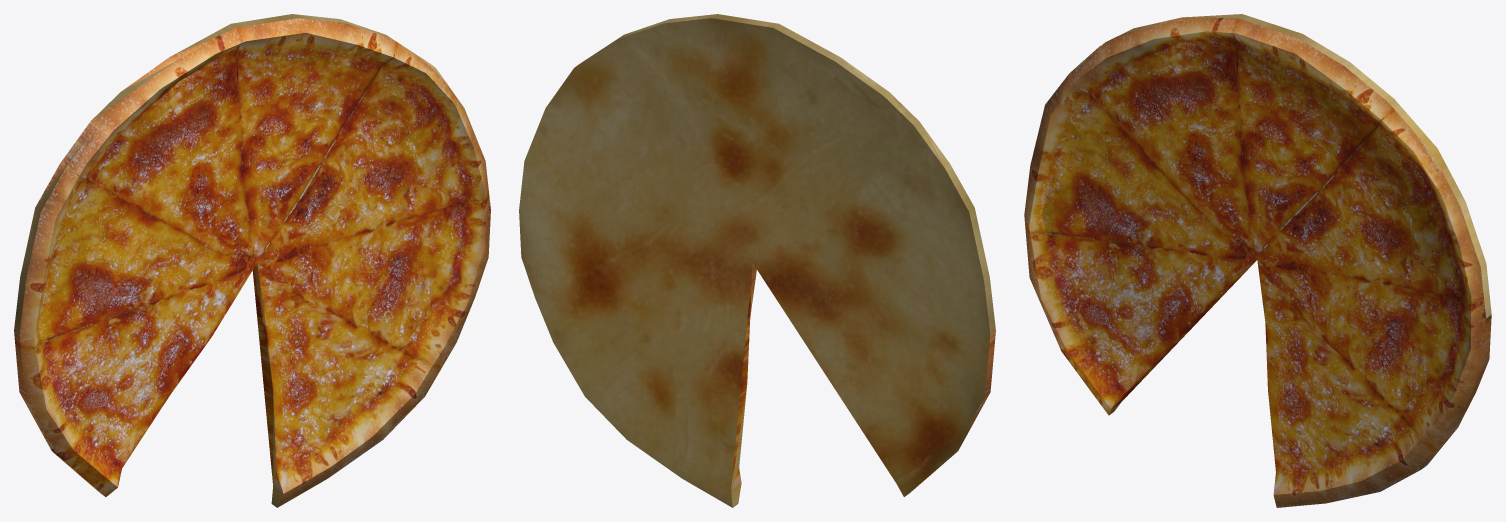
Rendered from Pizza.obj.
3 renders of one model, left to right at view 1: azimuth 30°, elevation 25°; view 2: azimuth 150°, elevation 25°; view 3: azimuth 330°, elevation 25°, orthographic. The views are drawn at different scales.
Visible parts, largest first — view 1: Triangles, Duplicate00; view 2: Duplicate00; view 3: Triangles, Duplicate00.
Boxes of the visible parts, box(x1,y1,x2,y2) form: Triangles: box(19, 18, 490, 507); Duplicate00: box(14, 14, 433, 507); Duplicate00: box(519, 14, 995, 507); Triangles: box(1024, 18, 1485, 507); Duplicate00: box(1102, 14, 1491, 468).
Size of the model in its own units: 204 by 203 by 7.86.
1 material, 1 textured.
